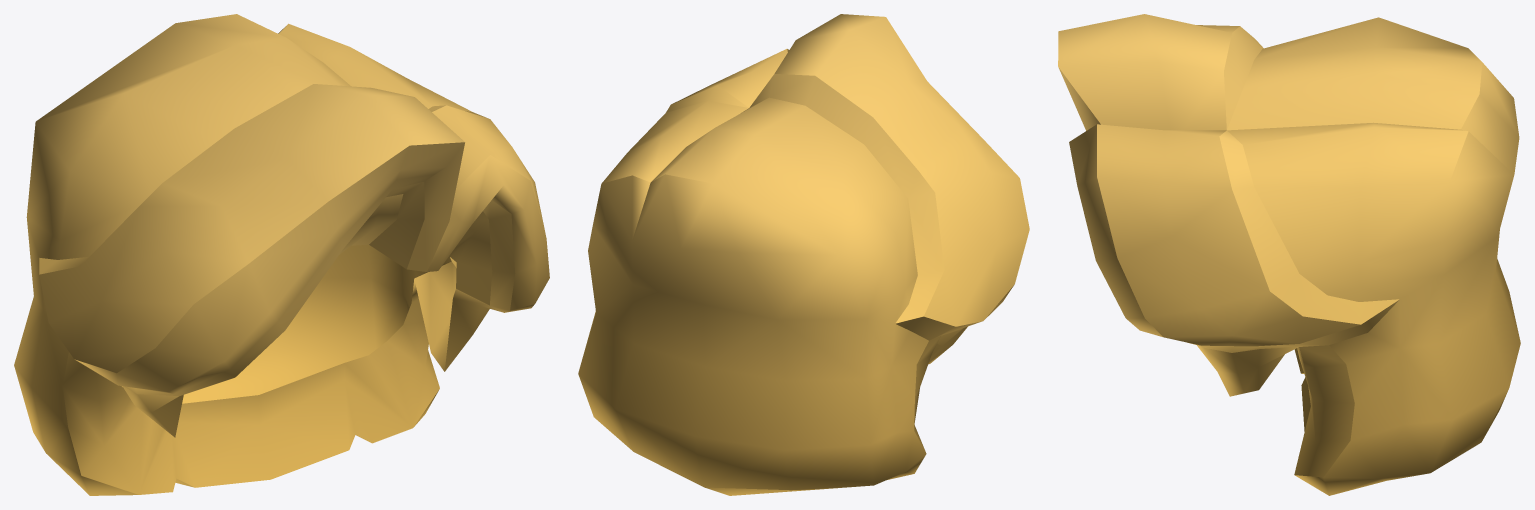
Rendered from Hair_Yellow_5.fbx.
3 renders of one model, left to right at view 1: azimuth 30°, elevation 25°; view 2: azimuth 150°, elevation 25°; view 3: azimuth 270°, elevation 25°, orthographic. The views are drawn at different scales.
Visible parts, largest first — view 1: Hair_Yellow_5; view 2: Hair_Yellow_5; view 3: Hair_Yellow_5.
Boxes of the visible parts, left/top/right/bottom form: Hair_Yellow_5: left=14, top=14, right=549, bottom=495; Hair_Yellow_5: left=578, top=14, right=1029, bottom=495; Hair_Yellow_5: left=1058, top=14, right=1520, bottom=495.
Size of the model in its own units: 67.62 by 68.28 by 65.32.
